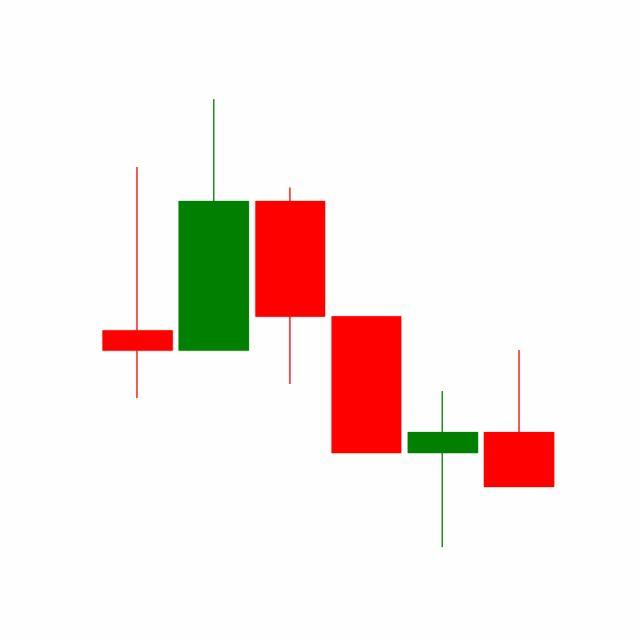Spinning Top: (404, 390, 482, 550)
